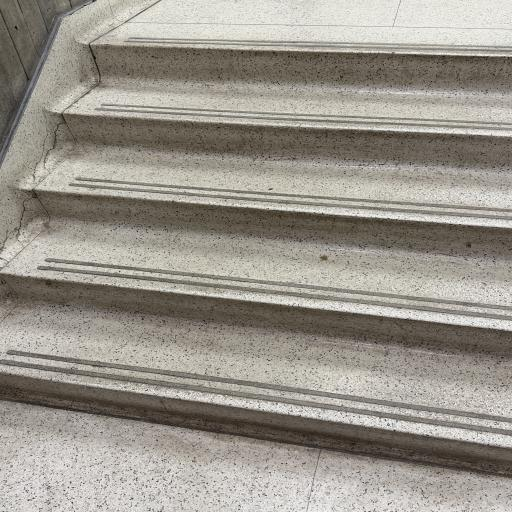Stairs: (0, 24, 512, 474)
